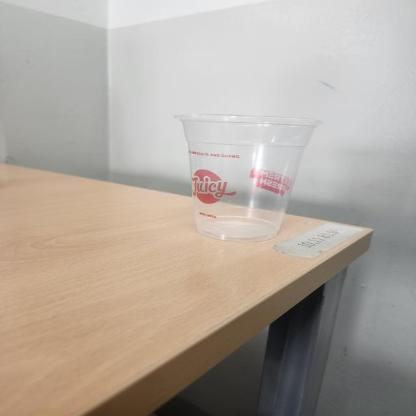Plastic Cup: (172, 110, 324, 244)
